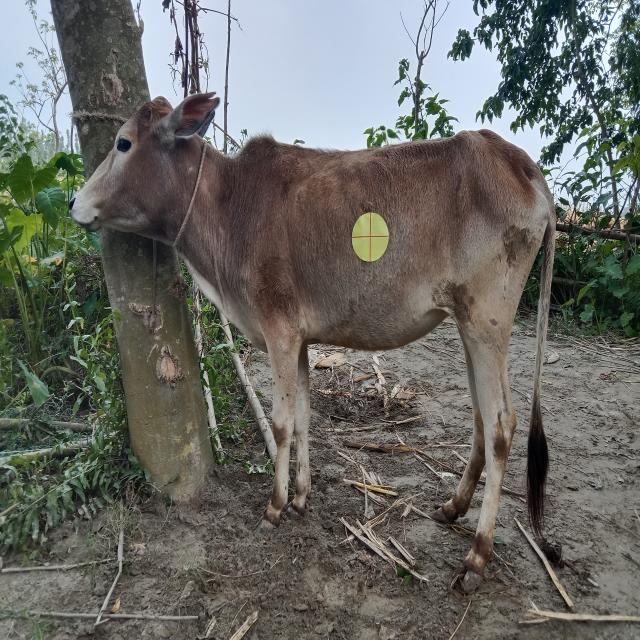badan_sapi: (232, 149, 536, 352)
sapi: (62, 87, 583, 609)
